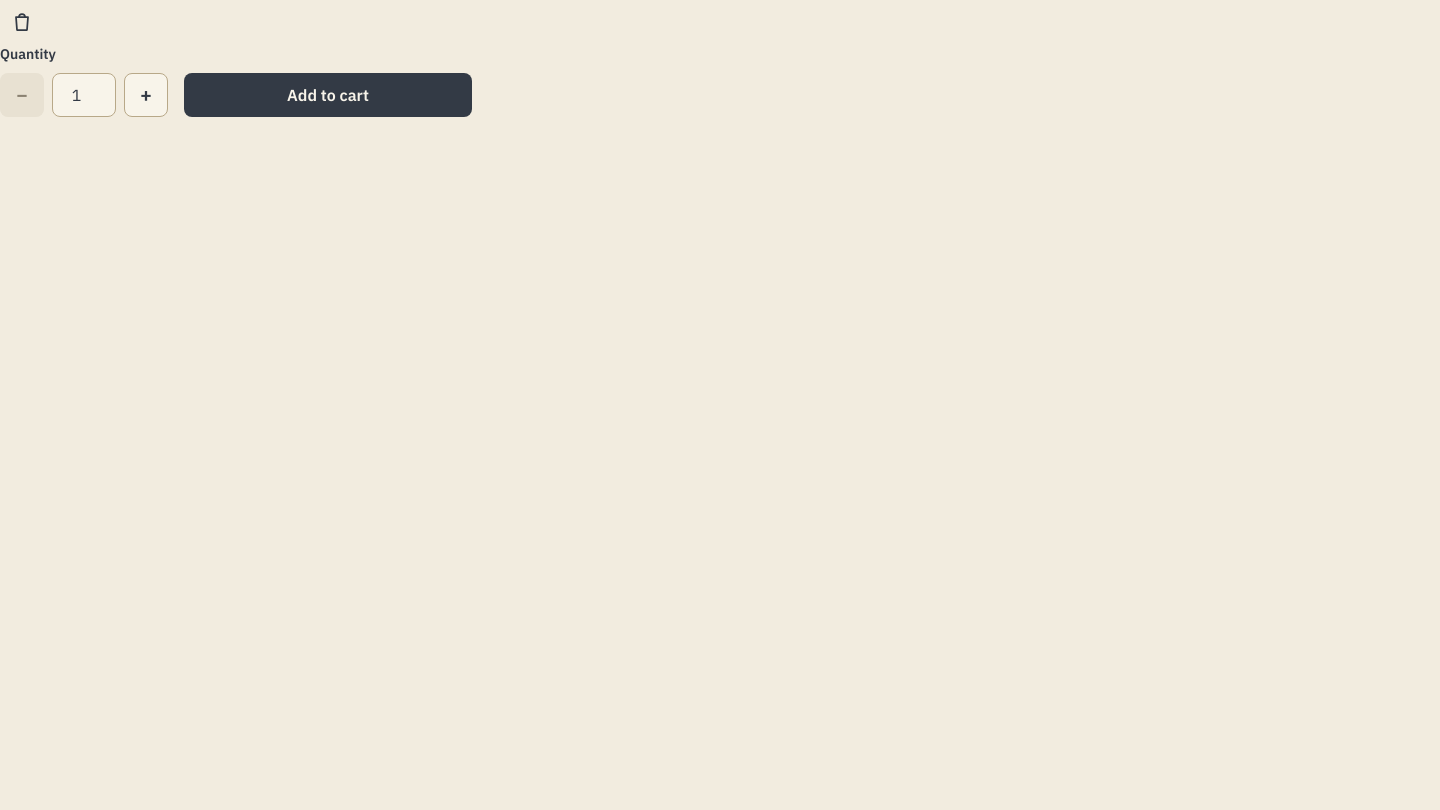
Test: AddToCart › opens the drawer on success
The width and height of the screenshot is (1440, 810).
Click the button "Add to cart" at (328,95), box [184,73,472,117]
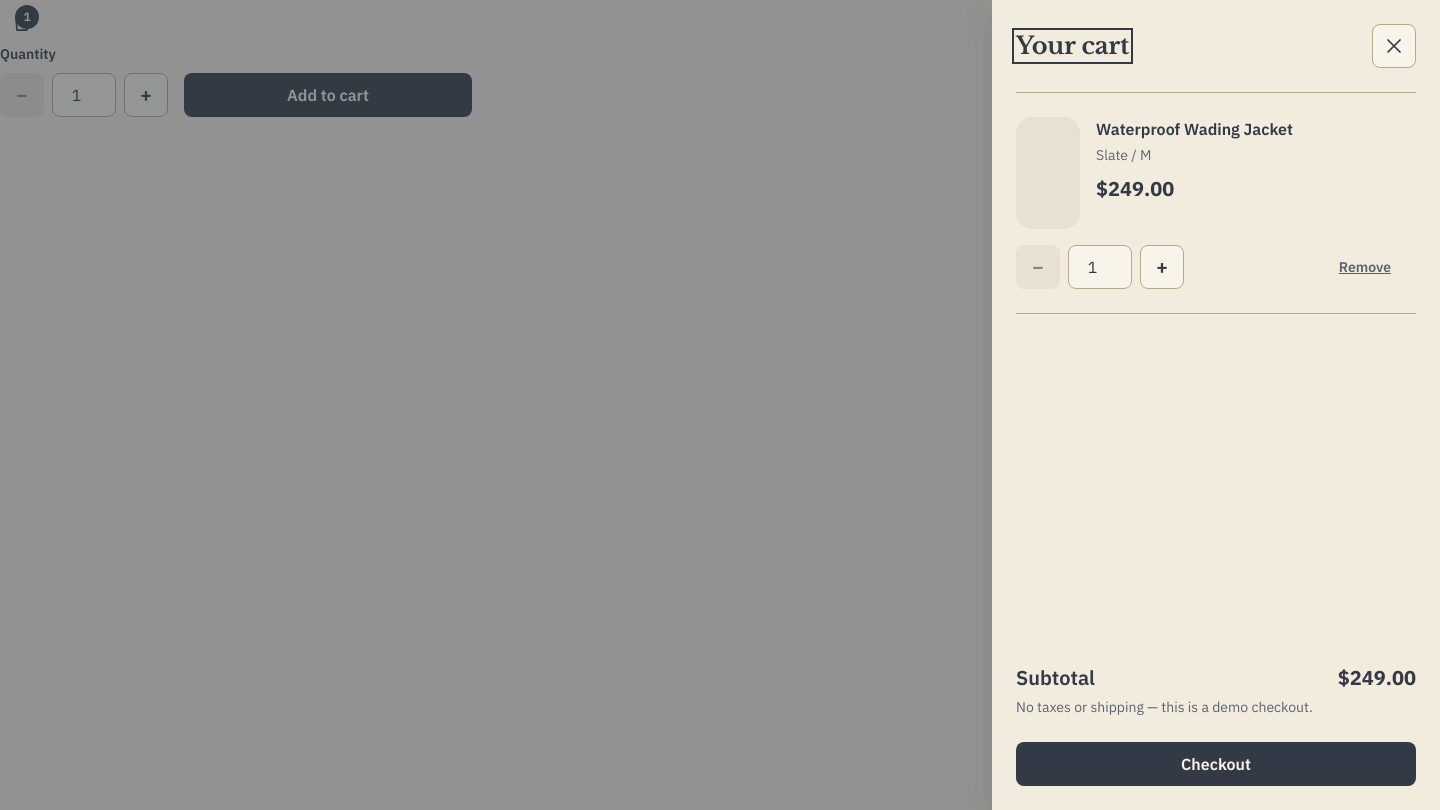
Result: the dialog "Your cart" is shown at [992,0,1439,809]
